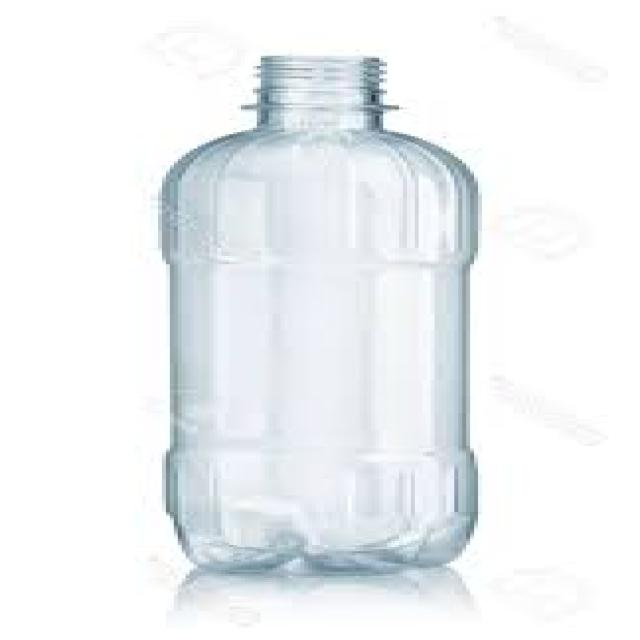plastic cup: (164, 57, 477, 570)
